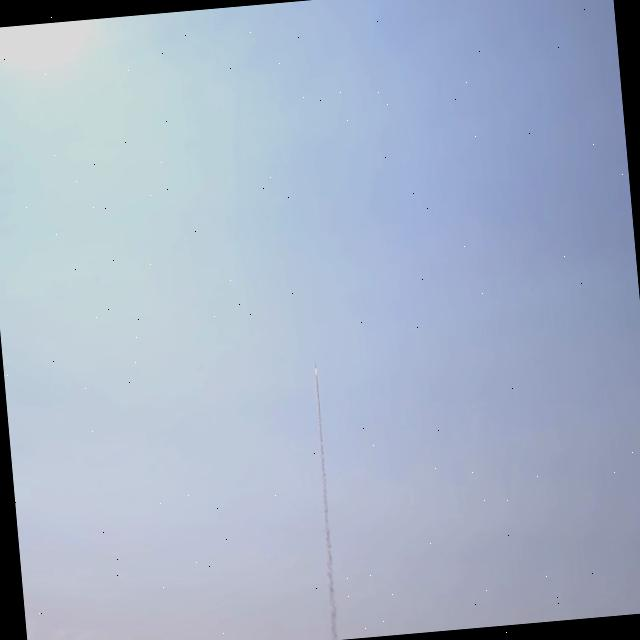smoke_trail_with_rocket: (313, 363, 338, 640)
